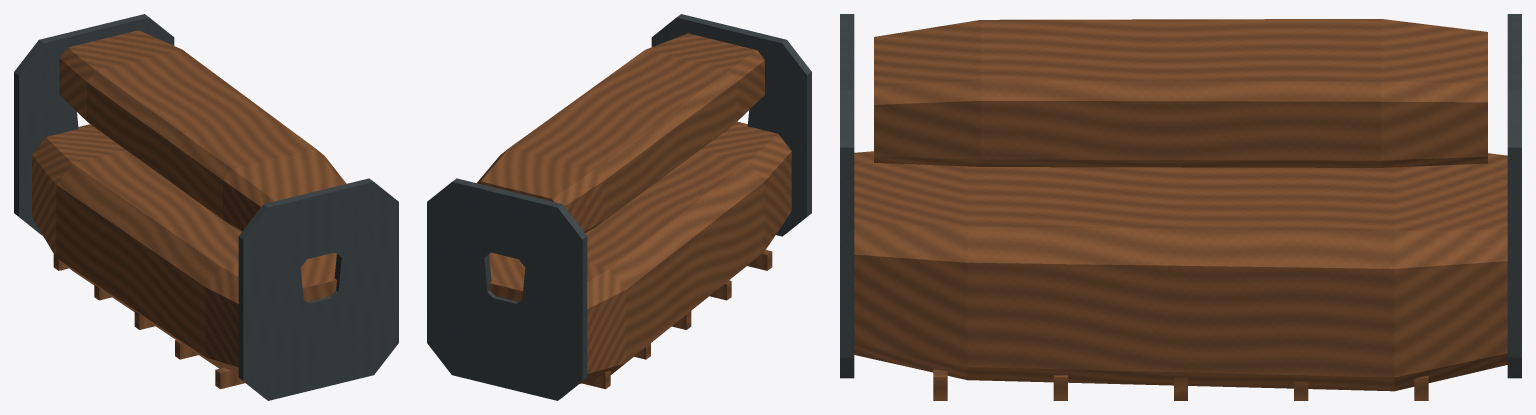
File: ak_wood.glb
3 views of the same model, side by side, from view 1: azimuth 30°, elevation 25°; view 2: azimuth 150°, elevation 25°; view 3: azimuth 270°, elevation 25° (orthographic). The views are drawn at different scales.
Parts seen in each view (by area): view 1: ak_wood_lower_palm_shell, ak_wood_retaining_band; view 2: ak_wood_lower_palm_shell, ak_wood_retaining_band; view 3: ak_wood_lower_palm_shell, ak_wood_retaining_band.
Part boxes in pixels (left/top/right/bottom): ak_wood_lower_palm_shell: left=32, top=30, right=346, bottom=389; ak_wood_retaining_band: left=14, top=14, right=398, bottom=400; ak_wood_lower_palm_shell: left=477, top=33, right=791, bottom=389; ak_wood_retaining_band: left=427, top=14, right=811, bottom=400; ak_wood_lower_palm_shell: left=854, top=19, right=1507, bottom=400; ak_wood_retaining_band: left=840, top=14, right=1521, bottom=378.
Size of the model in its own units: 0.113 by 0.139 by 0.286.
Materials: 2 (2 with a texture image).
